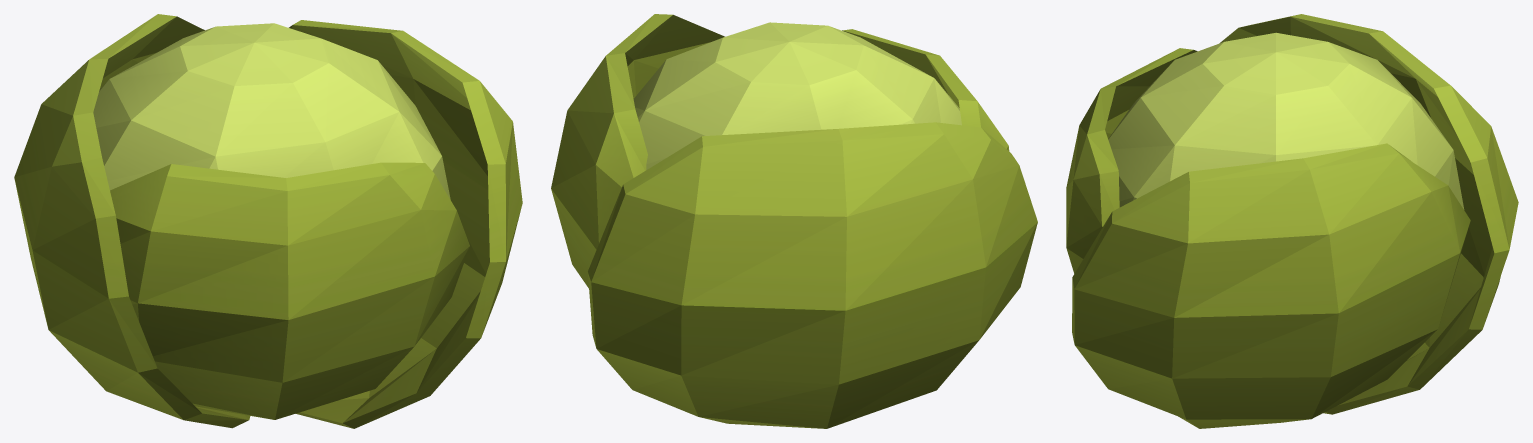
File: crop_cabbage_stage3.glb
3 renders of one model, left to right at view 1: azimuth 30°, elevation 25°; view 2: azimuth 150°, elevation 25°; view 3: azimuth 270°, elevation 25°, orthographic. The views are drawn at different scales.
Parts seen in each view (by area): view 1: crop_cabbage_stage3; view 2: crop_cabbage_stage3; view 3: crop_cabbage_stage3.
Boxes of the visible parts, x1,y1,x2,y2 form: crop_cabbage_stage3: [14, 14, 522, 428]; crop_cabbage_stage3: [551, 14, 1037, 428]; crop_cabbage_stage3: [1066, 14, 1518, 428].
Bounding box in the file's own units: 0.3914 × 0.32 × 0.3788.
1 material, 1 textured.
